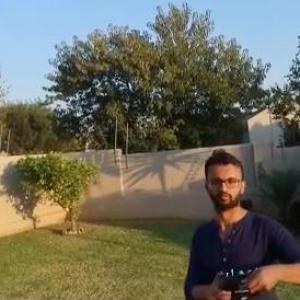follow: (185, 137, 300, 299)
